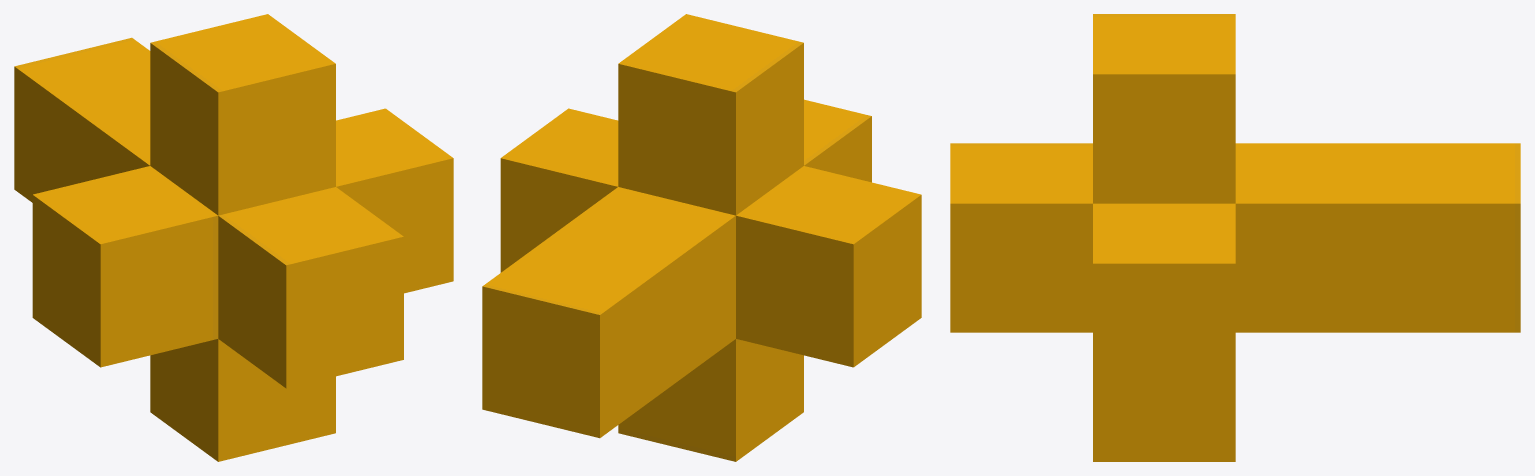
File: Bullet_02.FBX
3 views of the same model, side by side, from view 1: azimuth 30°, elevation 25°; view 2: azimuth 150°, elevation 25°; view 3: azimuth 270°, elevation 25° (orthographic). The views are drawn at different scales.
Parts seen in each view (by area): view 1: Bullet_02; view 2: Bullet_02; view 3: Bullet_02.
Boxes of the visible parts, x1,y1,x2,y2 form: Bullet_02: (14,14,453,461); Bullet_02: (482,14,921,461); Bullet_02: (950,14,1520,461).
Bounding box in the file's own units: 30 × 30 × 40.
